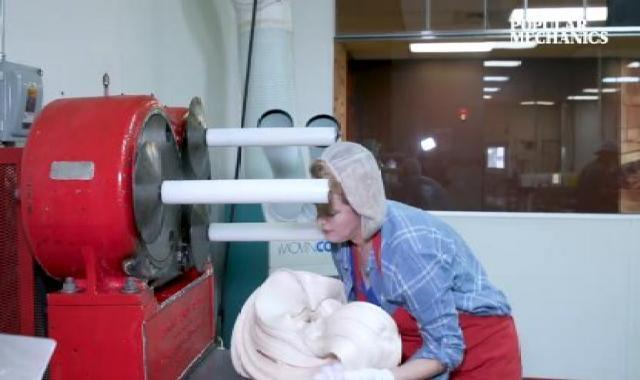gloves: (309, 141, 389, 242)
no_hairnet: (310, 194, 360, 246)
